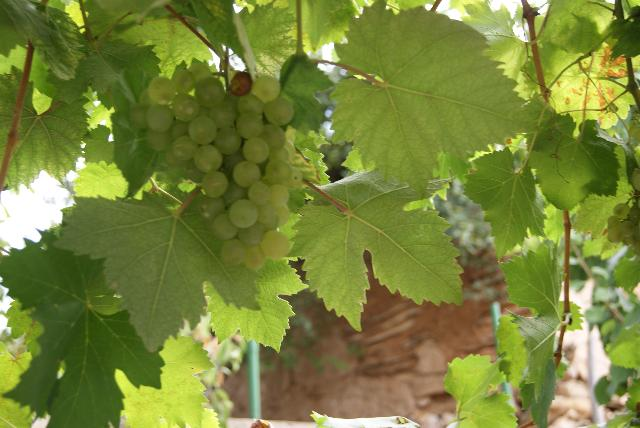grapes: (130, 62, 302, 270)
